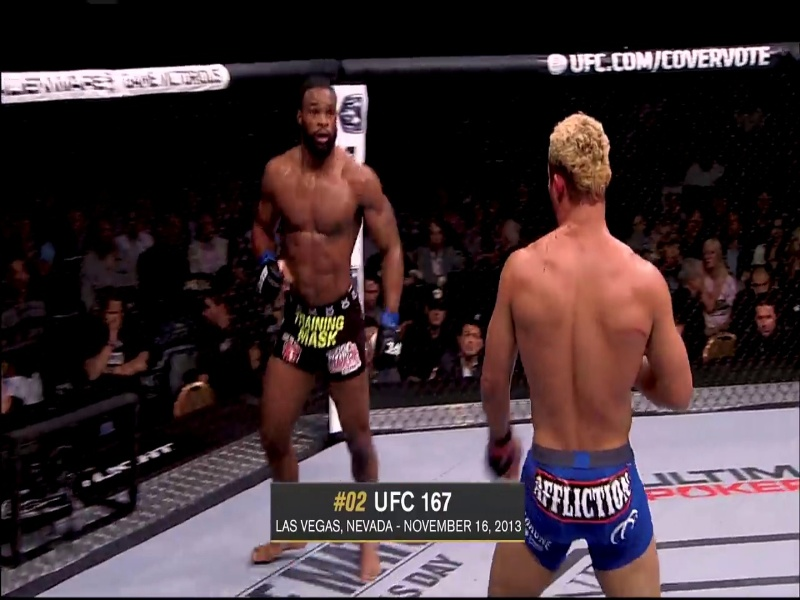fighter: (471, 95, 709, 600), (221, 83, 423, 589)
